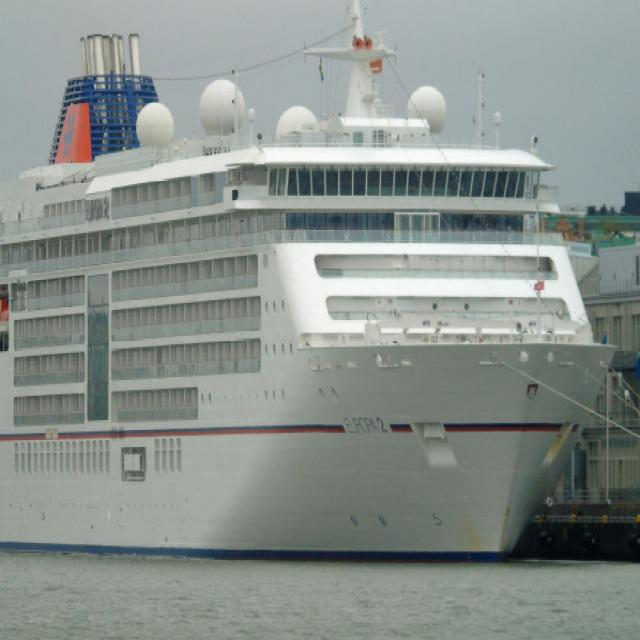cruises: (1, 1, 623, 577)
